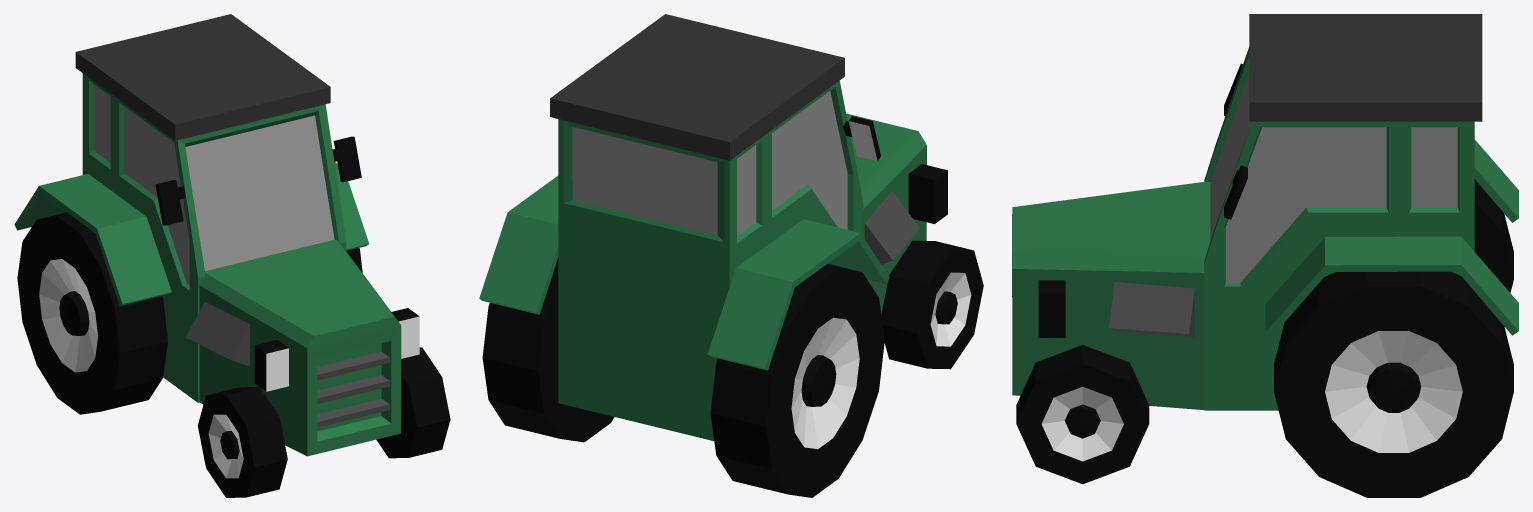
Rendered from tractor_1.FBX.
3 renders of one model, left to right at view 1: azimuth 30°, elevation 25°; view 2: azimuth 150°, elevation 25°; view 3: azimuth 270°, elevation 25°, orthographic. The views are drawn at different scales.
Visible parts, largest first — view 1: tractor_1; view 2: tractor_1; view 3: tractor_1.
Boxes of the visible parts, x1=… form: tractor_1: x1=14, y1=14, x2=450, y2=497; tractor_1: x1=479, y1=14, x2=983, y2=497; tractor_1: x1=1012, y1=14, x2=1518, y2=497.
Bounding box in the file's own units: 2.43 × 2.98 × 3.7.
2 materials, 1 textured.
